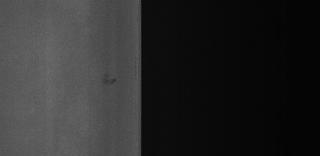oil spot: (102, 71, 118, 88)
